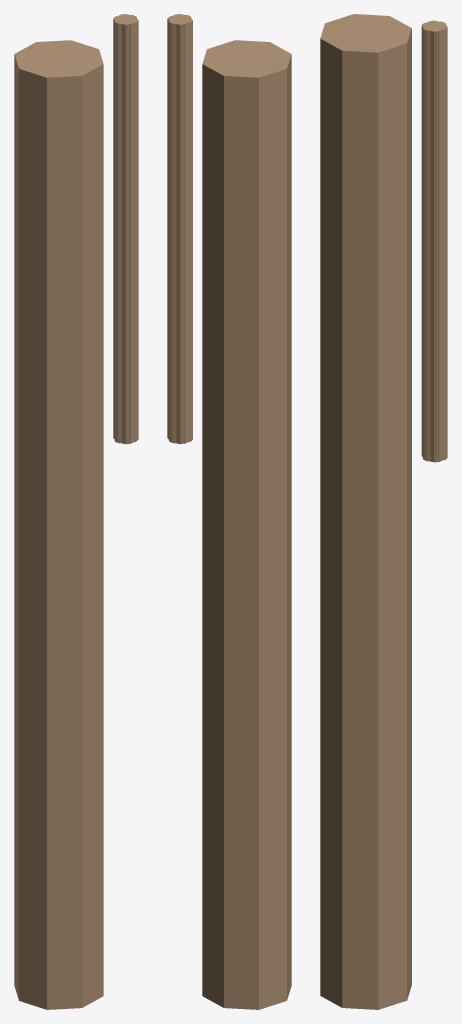
Rendered from bare_oak.glb.
3 renders of one model, left to right at view 1: azimuth 30°, elevation 25°; view 2: azimuth 150°, elevation 25°; view 3: azimuth 330°, elevation 25°, orthographic. The views are drawn at different scales.
Parts seen in each view (by area): view 1: trunk, branch.002, branch, branch.001; view 2: trunk, branch.002, branch, branch.001; view 3: trunk, branch.002, branch, branch.001.
Part boxes in pixels (left/top/right/bottom): trunk: left=14, top=40, right=103, bottom=1009; branch.002: left=113, top=14, right=138, bottom=443; branch: left=114, top=14, right=136, bottom=444; branch.001: left=114, top=14, right=137, bottom=444; trunk: left=202, top=40, right=291, bottom=1009; branch.002: left=167, top=14, right=192, bottom=443; branch: left=169, top=14, right=191, bottom=443; branch.001: left=168, top=14, right=191, bottom=444; trunk: left=320, top=14, right=411, bottom=1009; branch.002: left=421, top=21, right=447, bottom=461; branch: left=423, top=20, right=446, bottom=462; branch.001: left=422, top=20, right=446, bottom=462.
Bounding box in the file's own units: 0.5298 × 4.1 × 0.3594.
